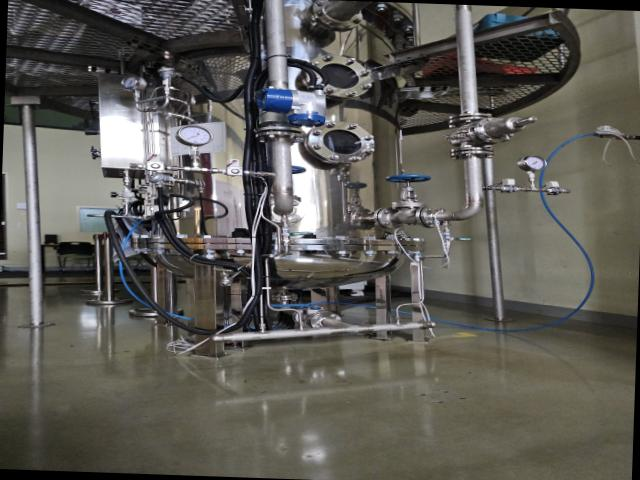Flange: (302, 118, 376, 166), (304, 52, 376, 100)
Flush Ring: (310, 0, 365, 32), (257, 196, 308, 225), (250, 126, 304, 144), (414, 204, 450, 230), (308, 310, 344, 332), (375, 206, 407, 230), (450, 145, 496, 161), (448, 112, 496, 125)
GasRegulator: (122, 66, 200, 124)
Nuts: (142, 158, 168, 174), (222, 165, 246, 178), (497, 184, 522, 194), (542, 186, 567, 196)
Piston Valve: (384, 172, 434, 208), (290, 165, 306, 175)
Pressure Gage: (175, 124, 214, 166), (516, 154, 548, 188)
